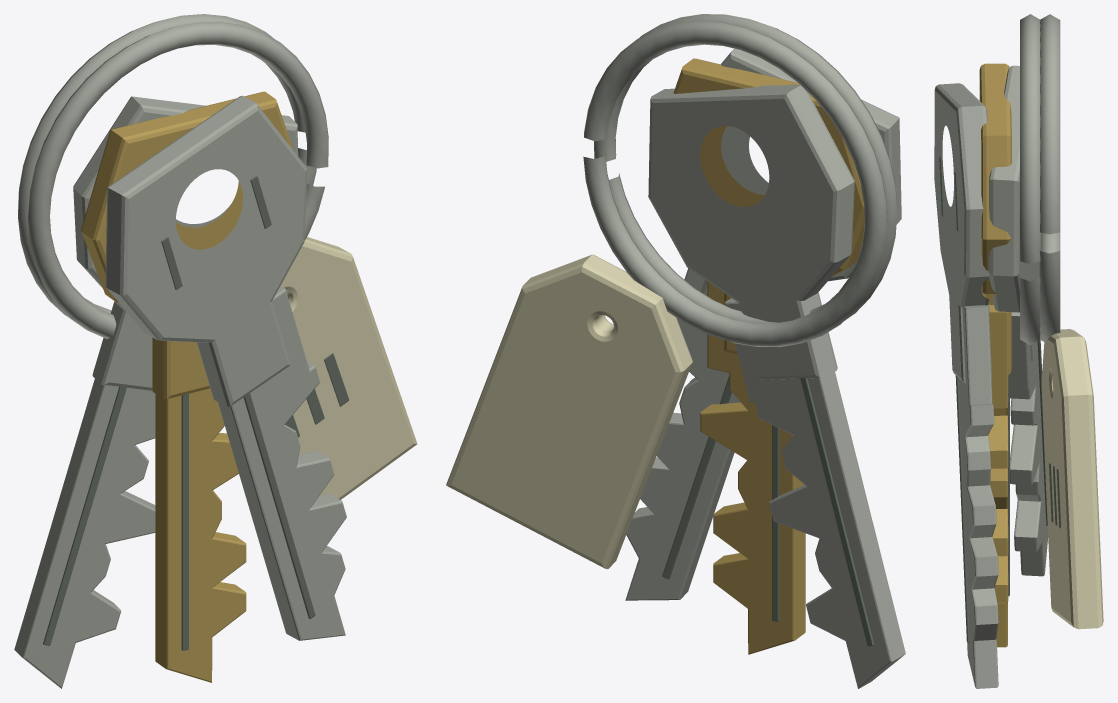
The model's file is keyring.glb.
The picture shows the model from 3 angles, left to right: view 1: azimuth 30°, elevation 25°; view 2: azimuth 150°, elevation 25°; view 3: azimuth 270°, elevation 25°; orthographic projection. The views are drawn at different scales.
Parts seen in each view (by area): view 1: keyring; view 2: keyring; view 3: keyring.
Part boxes in pixels (x1=…): keyring: x1=14, y1=14, x2=417, y2=688; keyring: x1=446, y1=14, x2=905, y2=688; keyring: x1=934, y1=14, x2=1103, y2=688.
Bounding box in the file's own units: 0.738 × 1.08 × 0.2694.
